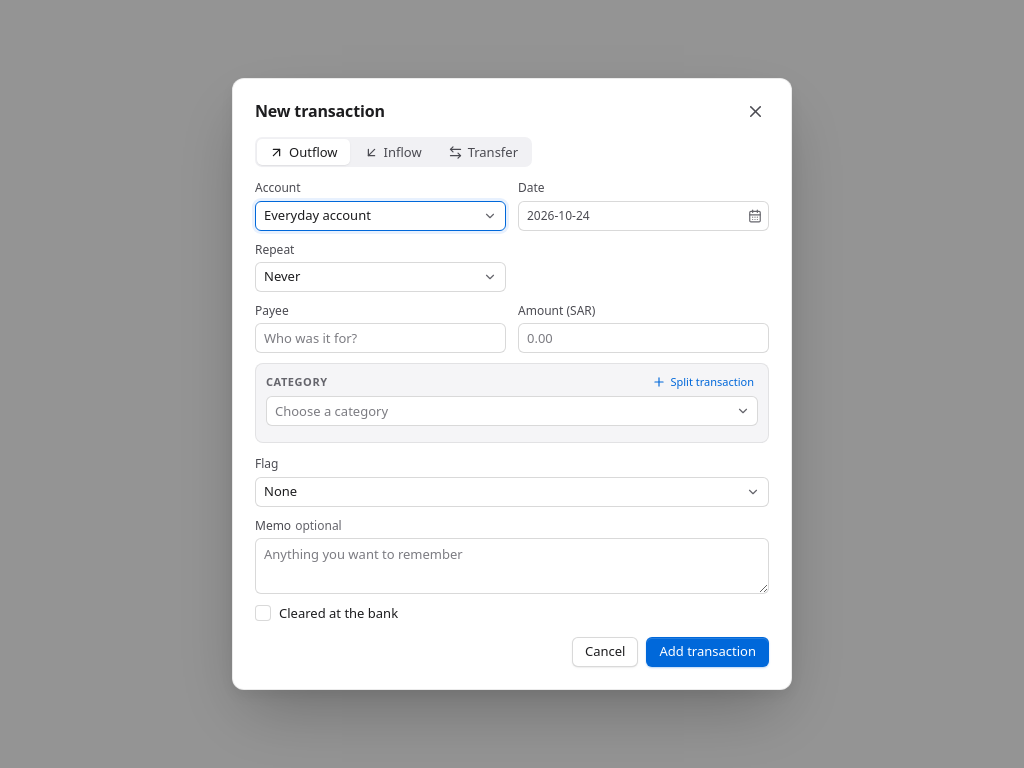
says a transaction dated ahead will be scheduled
Replace the text in the field labelled "Date" with "2999-01-01": [644, 216] box [518,200,769,230]
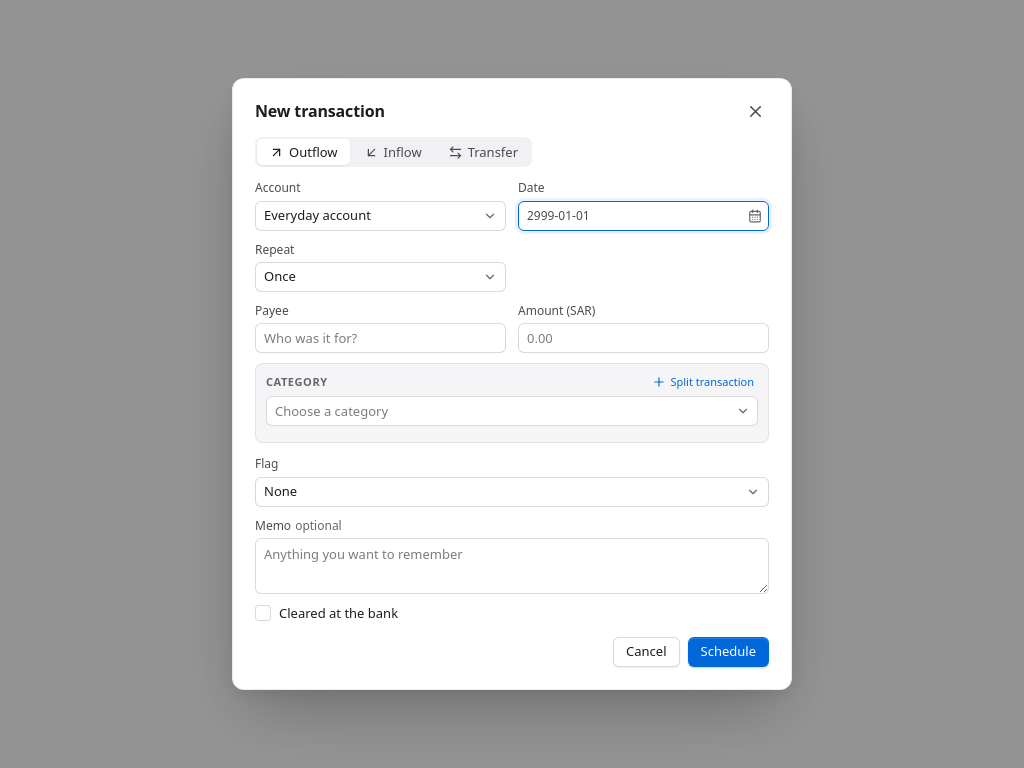
Expected: the button "Schedule" is shown, [688,637,769,667]
